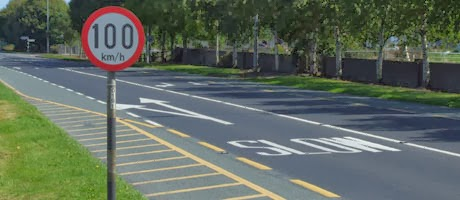Speed_limit_100km: (82, 6, 145, 72)
